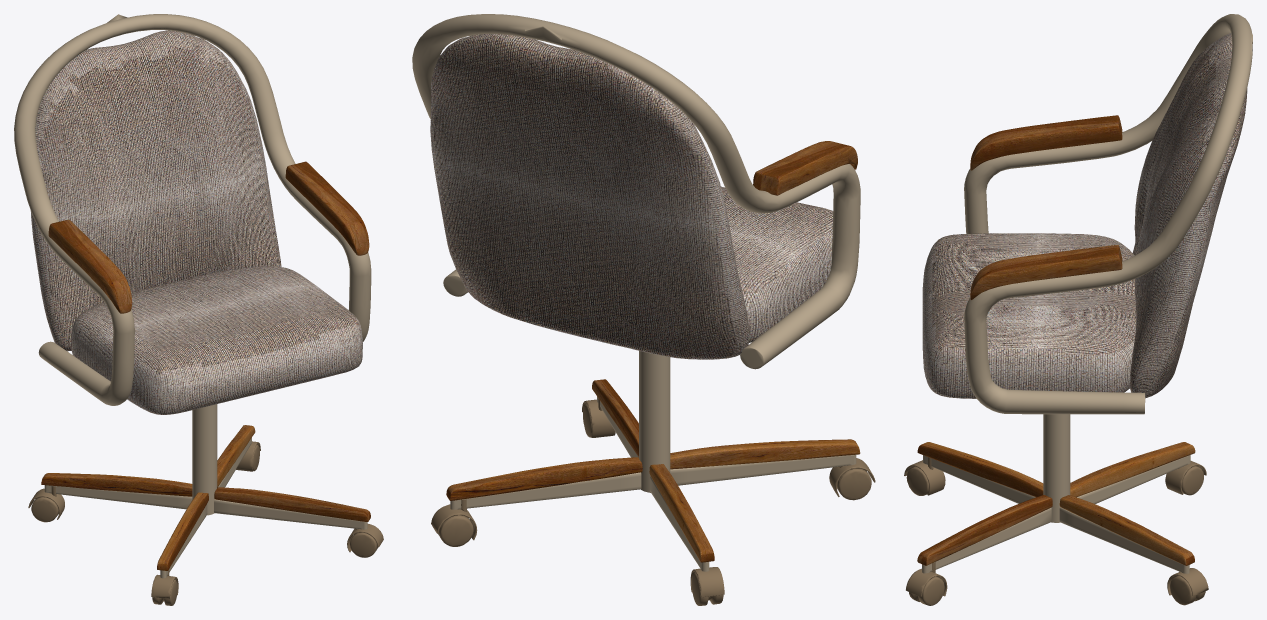
Rendered from RDBL3915.obj.
3 views of the same model, side by side, from view 1: azimuth 30°, elevation 25°; view 2: azimuth 150°, elevation 25°; view 3: azimuth 270°, elevation 25° (orthographic). The views are drawn at different scales.
Visible parts, largest first — view 1: not_clear_obj_1_v6, not_clear_obj_2_v6, not_clear_obj_3_v6, not_clear_obj_4_v6; view 2: not_clear_obj_1_v6, not_clear_obj_2_v6, not_clear_obj_3_v6, not_clear_obj_4_v6; view 3: not_clear_obj_1_v6, not_clear_obj_2_v6, not_clear_obj_3_v6, not_clear_obj_4_v6.
Boxes of the visible parts, x1,y1,x2,y2 form: not_clear_obj_1_v6: (30, 30, 362, 414); not_clear_obj_2_v6: (14, 14, 371, 578); not_clear_obj_3_v6: (41, 161, 370, 570); not_clear_obj_4_v6: (28, 441, 383, 605); not_clear_obj_1_v6: (430, 34, 833, 359); not_clear_obj_2_v6: (412, 14, 860, 571); not_clear_obj_3_v6: (446, 141, 860, 562); not_clear_obj_4_v6: (431, 398, 875, 605); not_clear_obj_1_v6: (922, 33, 1247, 398); not_clear_obj_2_v6: (922, 14, 1252, 573); not_clear_obj_3_v6: (917, 115, 1195, 565); not_clear_obj_4_v6: (904, 457, 1208, 605).
Size of what is drawn, in the model's own units: 57.13 by 96.96 by 59.82.
